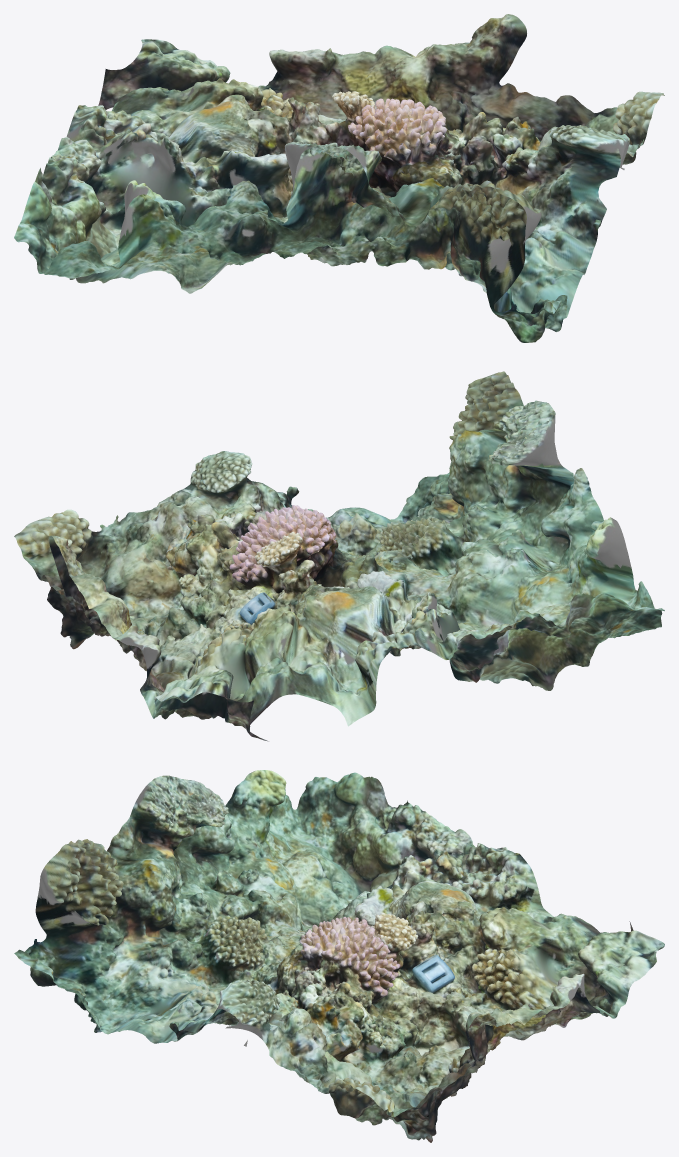
File: pocillopora_verrucosa.glb
3 views of the same model, one above another, from view 1: azimuth 30°, elevation 25°; view 2: azimuth 150°, elevation 25°; view 3: azimuth 270°, elevation 25° (orthographic). The views are drawn at different scales.
Parts seen in each view (by area): view 1: Object_5, Object_6, Object_4, Object_2, Object_3, Object_7; view 2: Object_5, Object_6, Object_4, Object_3, Object_2, Object_7; view 3: Object_5, Object_6, Object_4, Object_3, Object_2, Object_7.
Part boxes in pixels (bbox=[...]): Object_5: bbox=[14, 55, 566, 340]; Object_6: bbox=[72, 14, 664, 342]; Object_4: bbox=[98, 39, 601, 315]; Object_2: bbox=[245, 98, 629, 193]; Object_3: bbox=[218, 82, 636, 208]; Object_7: bbox=[510, 176, 606, 316]; Object_5: bbox=[105, 371, 664, 711]; Object_6: bbox=[14, 393, 549, 726]; Object_4: bbox=[90, 486, 455, 741]; Object_3: bbox=[136, 460, 372, 628]; Object_2: bbox=[151, 451, 328, 632]; Object_7: bbox=[268, 486, 392, 555]; Object_5: bbox=[14, 770, 607, 1037]; Object_6: bbox=[41, 778, 567, 1142]; Object_4: bbox=[106, 915, 664, 1049]; Object_3: bbox=[207, 884, 513, 1071]; Object_2: bbox=[215, 900, 513, 1061]; Object_7: bbox=[106, 979, 236, 1043].
Bounding box in the file's own units: 46.96 × 16.1 × 45.15.
Materials: 1 (1 with a texture image).
